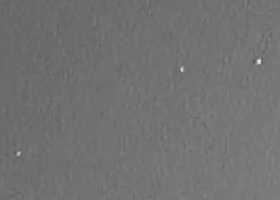Target: (17, 59, 261, 155)
